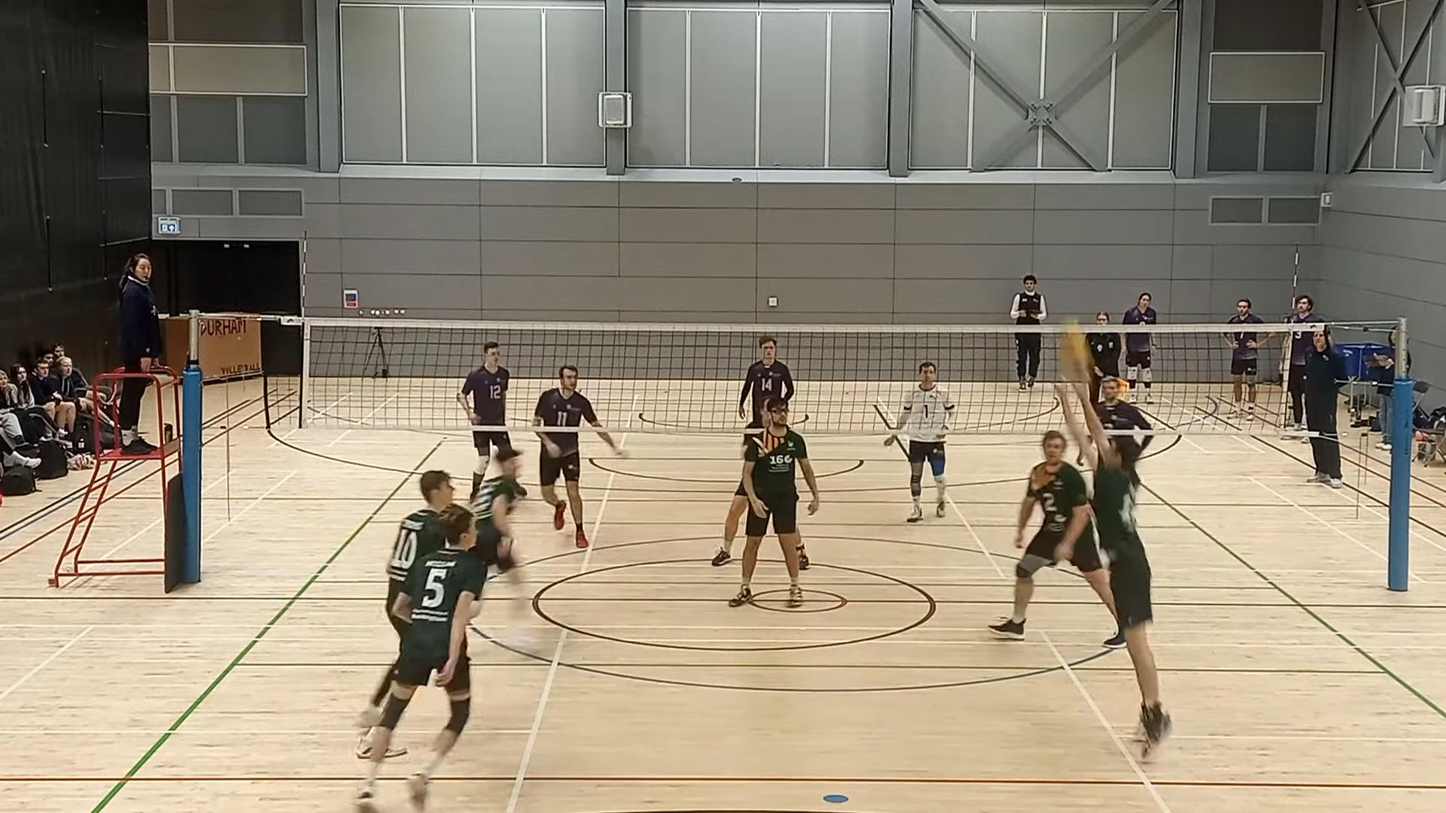alzata: (1049, 378, 1177, 782)
